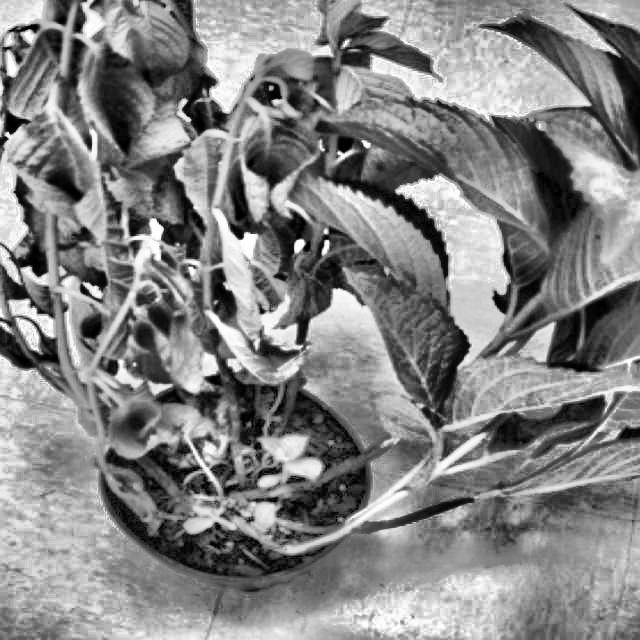plants: (0, 0, 639, 596), (218, 64, 342, 224), (68, 15, 174, 156), (0, 220, 85, 384)
